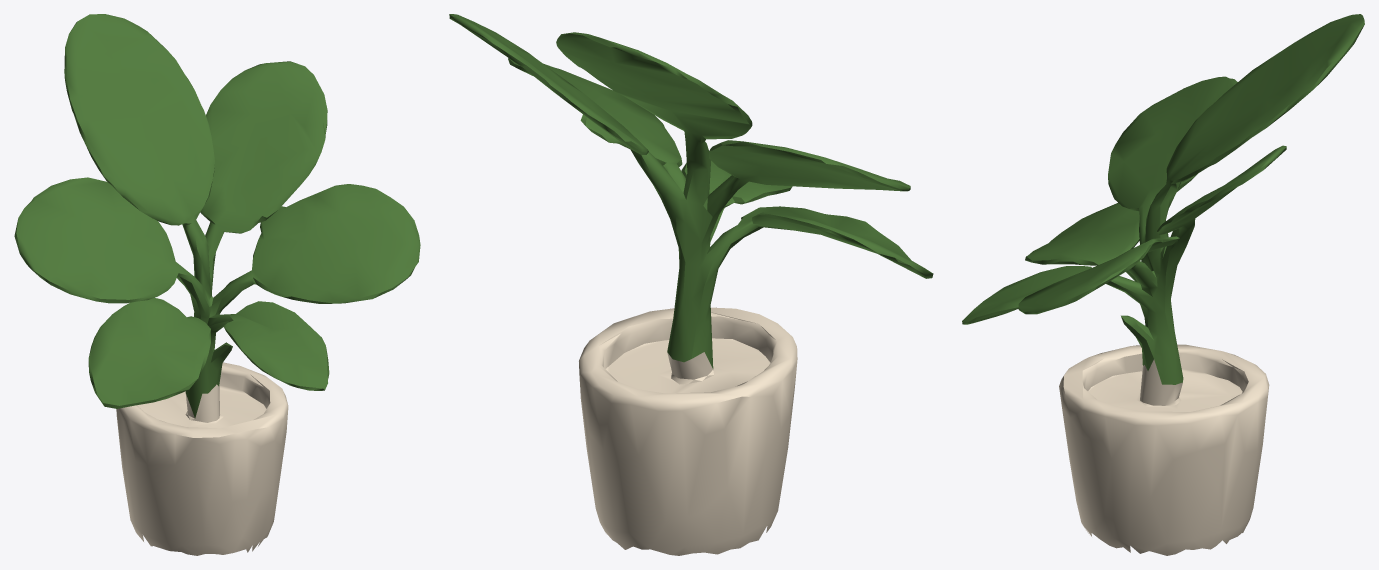
The model's file is plant.glb.
3 renders of one model, left to right at view 1: azimuth 30°, elevation 25°; view 2: azimuth 150°, elevation 25°; view 3: azimuth 270°, elevation 25°, orthographic. The views are drawn at different scales.
Visible parts, largest first — view 1: plant_leaf, plant_pot; view 2: plant_pot, plant_leaf; view 3: plant_leaf, plant_pot.
Boxes of the visible parts, <box> form: plant_leaf: <box>14,14,420,418</box>; plant_pot: <box>116,362,288,555</box>; plant_pot: <box>579,307,797,555</box>; plant_leaf: <box>449,14,933,368</box>; plant_leaf: <box>962,14,1364,384</box>; plant_pot: <box>1059,344,1269,555</box>.
Size of the model in its own units: 1.2 by 1.5 by 1.1.
